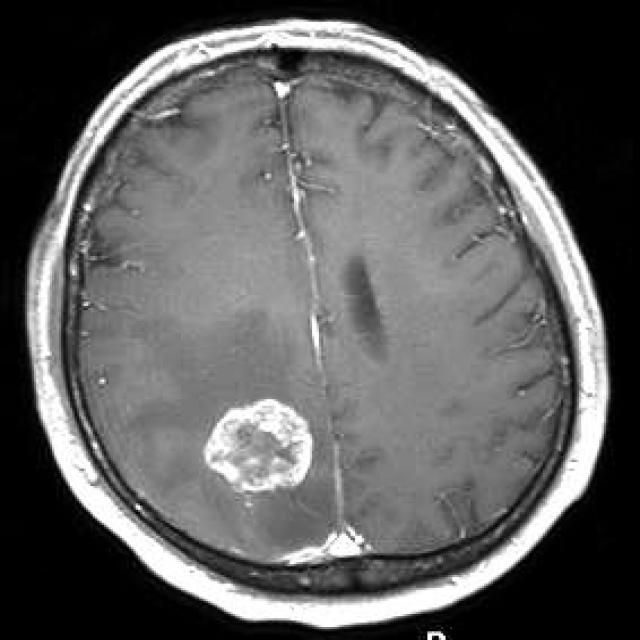Tumor: (190, 391, 319, 504)
